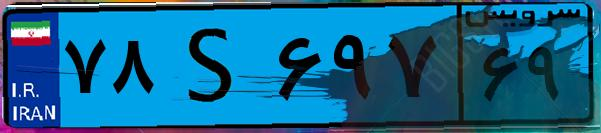6: (270, 28, 330, 110), (475, 38, 525, 113)
7: (385, 28, 445, 110), (57, 26, 110, 100)
8: (110, 28, 158, 98)
9: (330, 28, 385, 110), (525, 38, 570, 115)
S: (158, 12, 270, 120)
